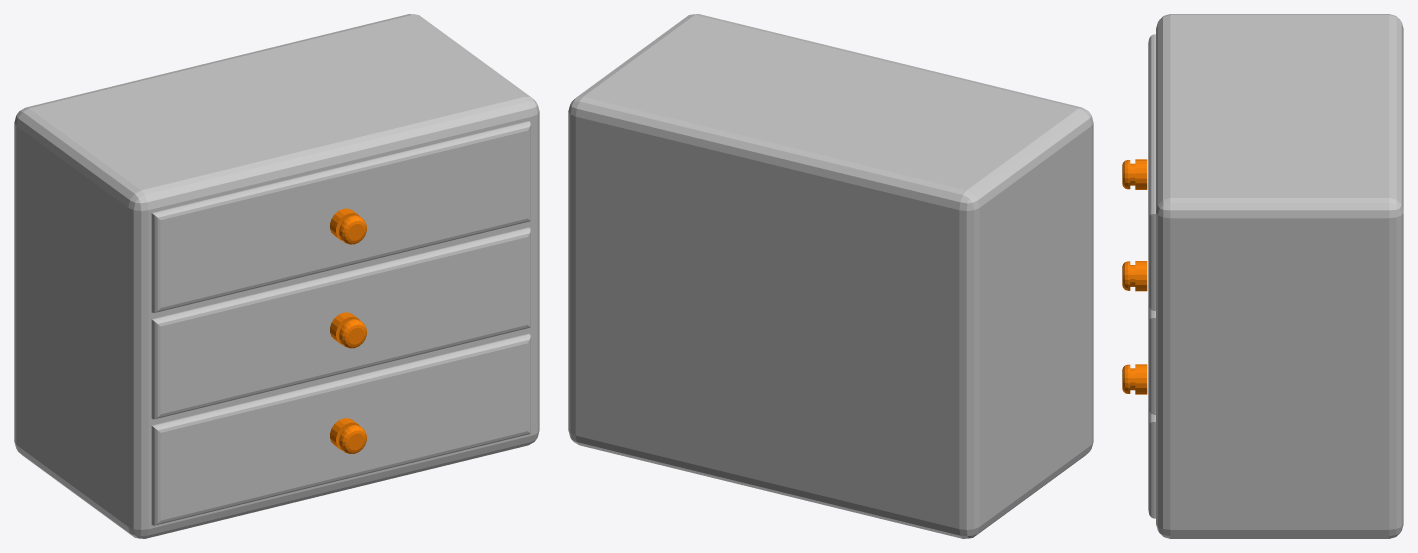
Rendered from Wardrobe_15.fbx.
3 renders of one model, left to right at view 1: azimuth 30°, elevation 25°; view 2: azimuth 150°, elevation 25°; view 3: azimuth 270°, elevation 25°, orthographic. The views are drawn at different scales.
Visible parts, largest first — view 1: Wardrobe_15, Wardrobe_15 Door_2, Wardrobe_15 Door_3, Wardrobe_15 Door_1; view 2: Wardrobe_15; view 3: Wardrobe_15, Wardrobe_15 Door_1, Wardrobe_15 Door_2, Wardrobe_15 Door_3.
Boxes of the visible parts, x1,y1,x2,y2 form: Wardrobe_15: (14,14,539,538); Wardrobe_15 Door_2: (151,333,530,525); Wardrobe_15 Door_3: (151,227,530,419); Wardrobe_15 Door_1: (151,121,530,312); Wardrobe_15: (568,14,1093,538); Wardrobe_15: (1156,14,1403,538); Wardrobe_15 Door_1: (1122,34,1155,310); Wardrobe_15 Door_2: (1122,364,1155,518); Wardrobe_15 Door_3: (1122,261,1155,414).
Bounding box in the file's own units: 0.987 × 0.8015 × 0.6019.
